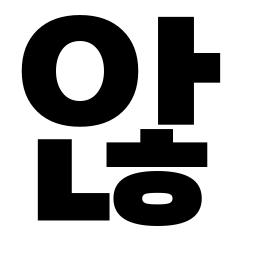Gaji: (146, 43, 210, 97)
